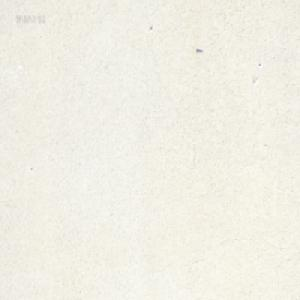Nail: (195, 47, 202, 52)
